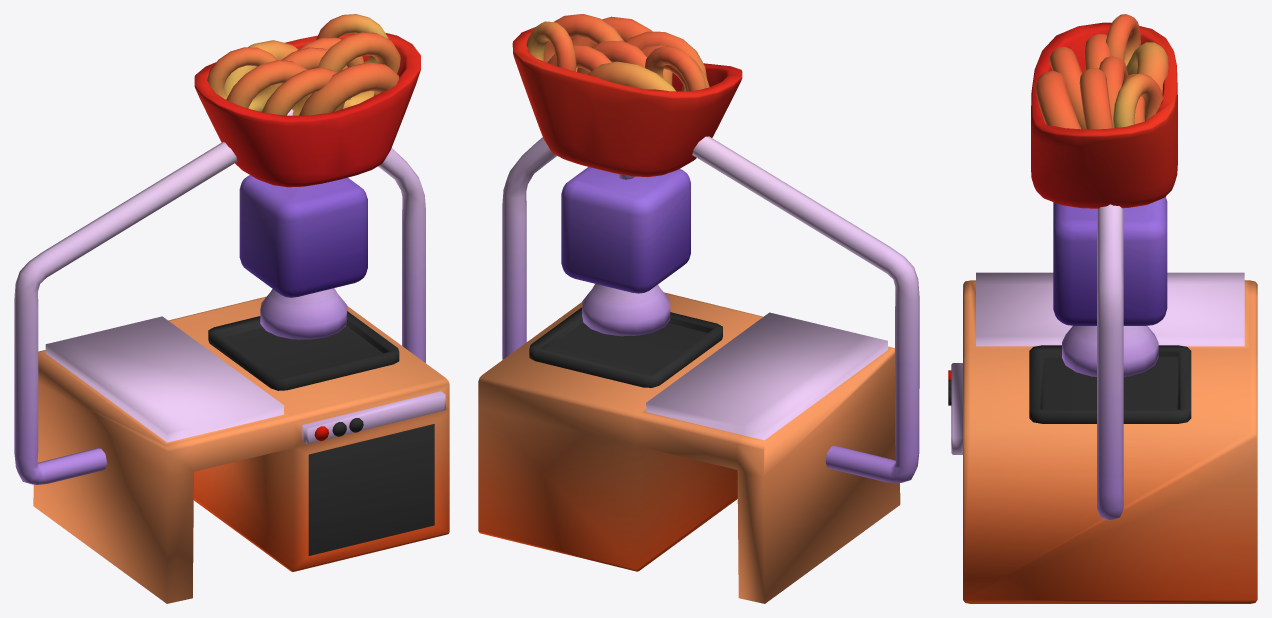
The model's file is Onion-Machine.fbx.
3 renders of one model, left to right at view 1: azimuth 30°, elevation 25°; view 2: azimuth 150°, elevation 25°; view 3: azimuth 270°, elevation 25°, orthographic. The views are drawn at different scales.
Parts seen in each view (by area): view 1: Onion-Machine; view 2: Onion-Machine; view 3: Onion-Machine.
Part boxes in pixels (<box>): Onion-Machine: <box>14,14,449,603</box>; Onion-Machine: <box>478,14,919,603</box>; Onion-Machine: <box>948,14,1257,603</box>.
Size of the model in its own units: 419 by 459 by 249.
